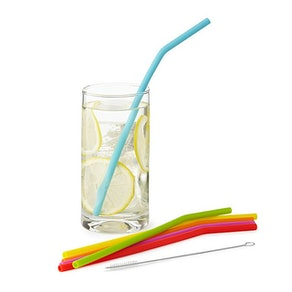Drinking Straw: (92, 16, 213, 217)
